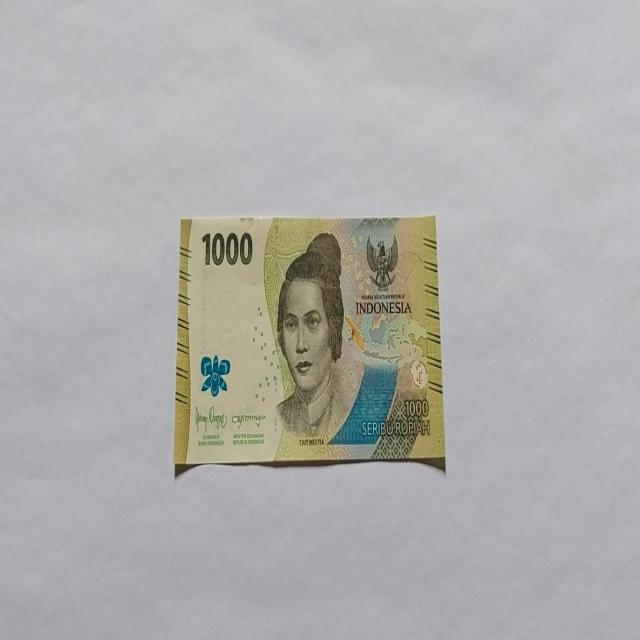seribu rupiah kertas: (173, 213, 444, 472)
